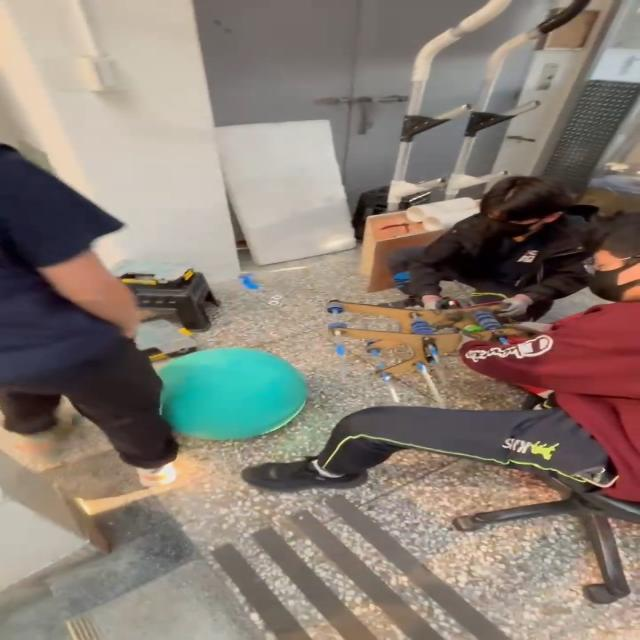ALGAE: (154, 346, 309, 442)
